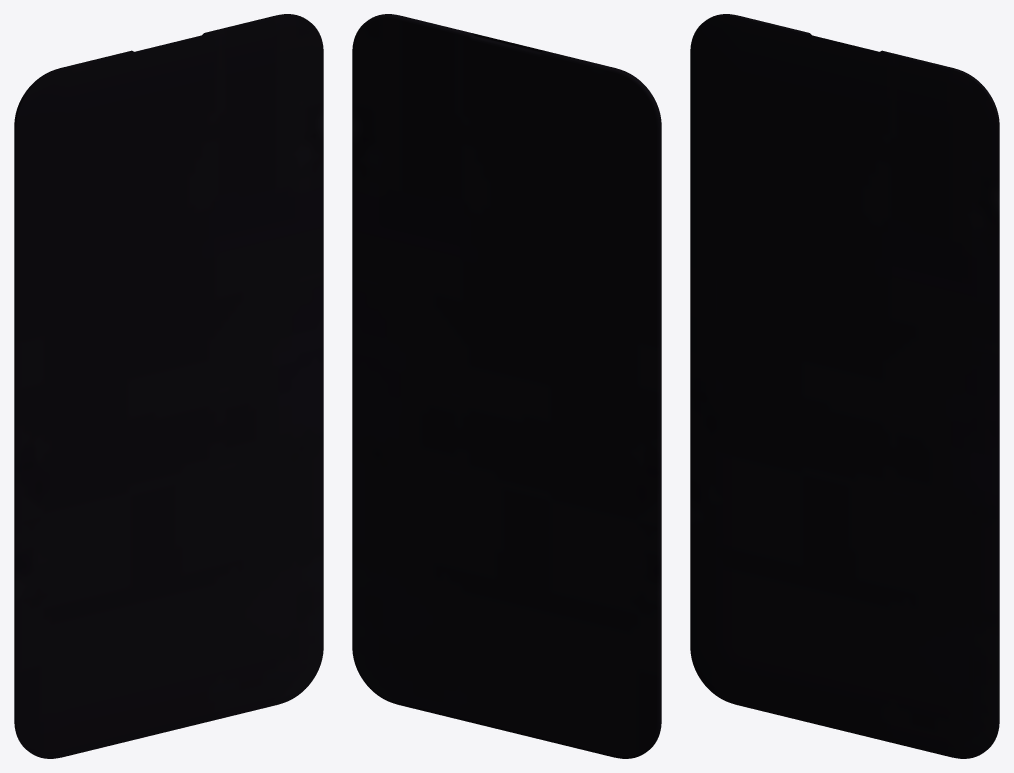
Rendered from NewScreenProtector.fbx.
3 views of the same model, side by side, from view 1: azimuth 30°, elevation 25°; view 2: azimuth 150°, elevation 25°; view 3: azimuth 330°, elevation 25° (orthographic).
Parts seen in each view (by area): view 1: New Screen Protector; view 2: New Screen Protector; view 3: New Screen Protector.
Part boxes in pixels (<box>): New Screen Protector: <box>14,14,323,758</box>; New Screen Protector: <box>352,14,661,758</box>; New Screen Protector: <box>690,14,999,758</box>.
Size of the model in its own units: 377 by 805 by 6.35.
